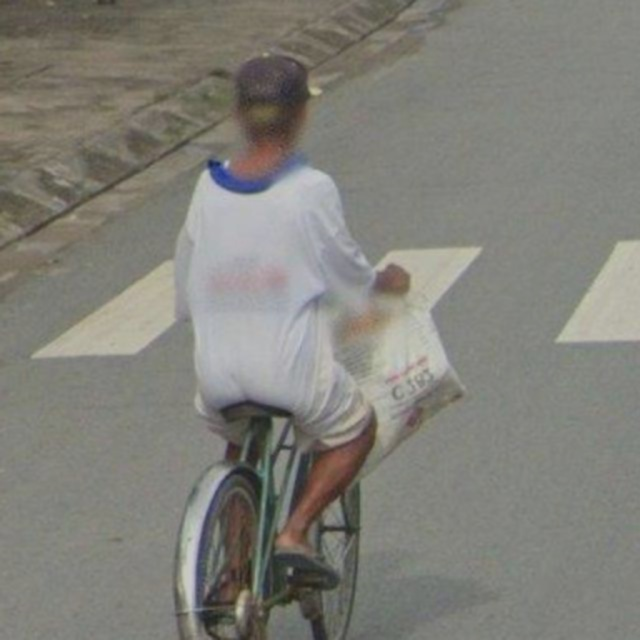bicycle: (133, 247, 484, 636)
